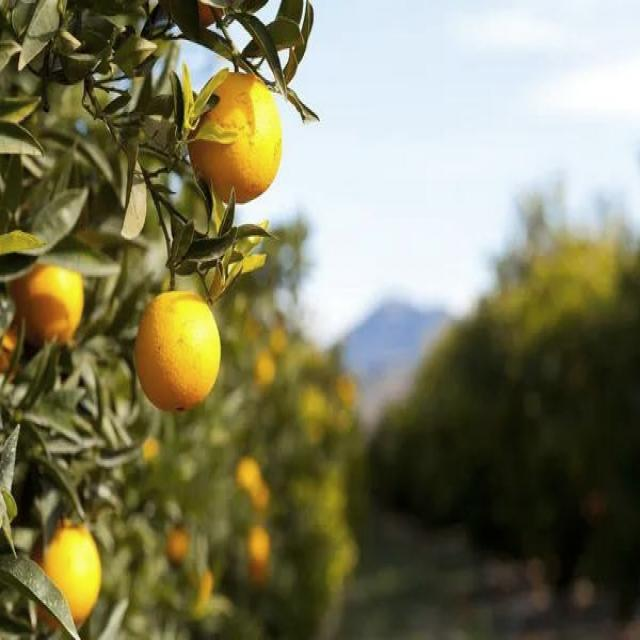Jeruk Sudah Matang: (188, 70, 282, 204), (135, 290, 221, 414), (18, 515, 104, 627), (10, 244, 84, 348)
